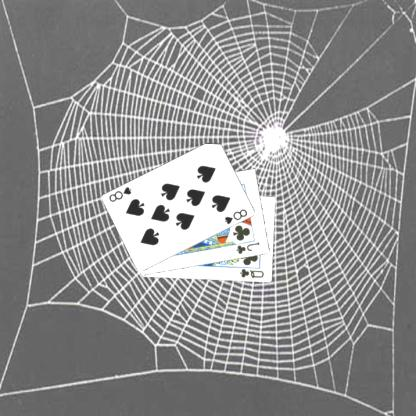8S: (108, 184, 135, 204), (224, 207, 250, 226)
JC: (236, 239, 263, 256)
QC: (239, 266, 267, 280)
